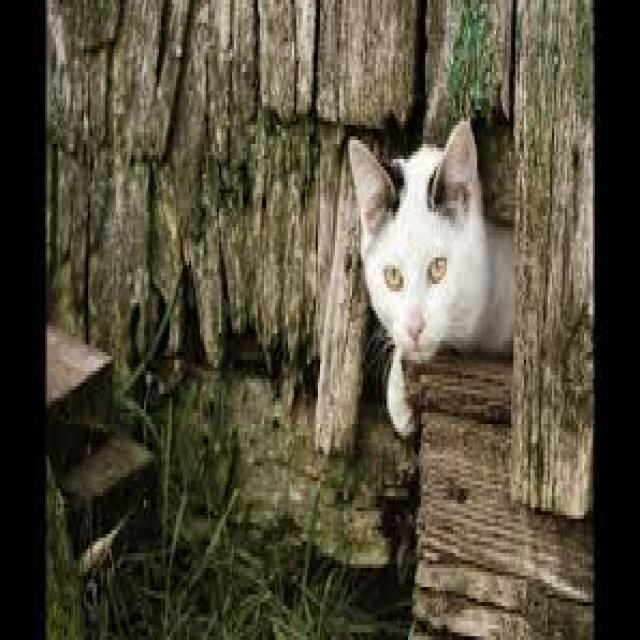cat: (349, 121, 512, 435)
